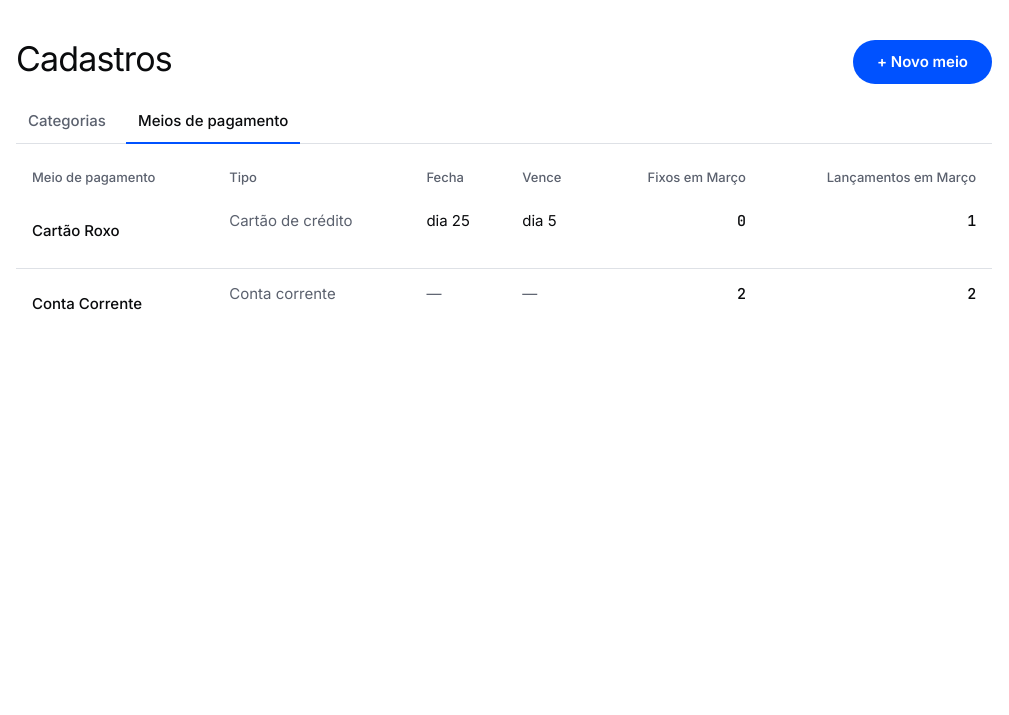
Test: abrir um meio e o endereço (CADCOL-07, ACs 1 e 15; CADCOL-11, ACs 1 a 3; CADCOL-10, AC 2) › a linha abre o meio no painel, marca a linha e leva o foco ao título
Click the button "Cartão Roxo" at (76, 232), box [32,210,120,254]
(page scrolled)
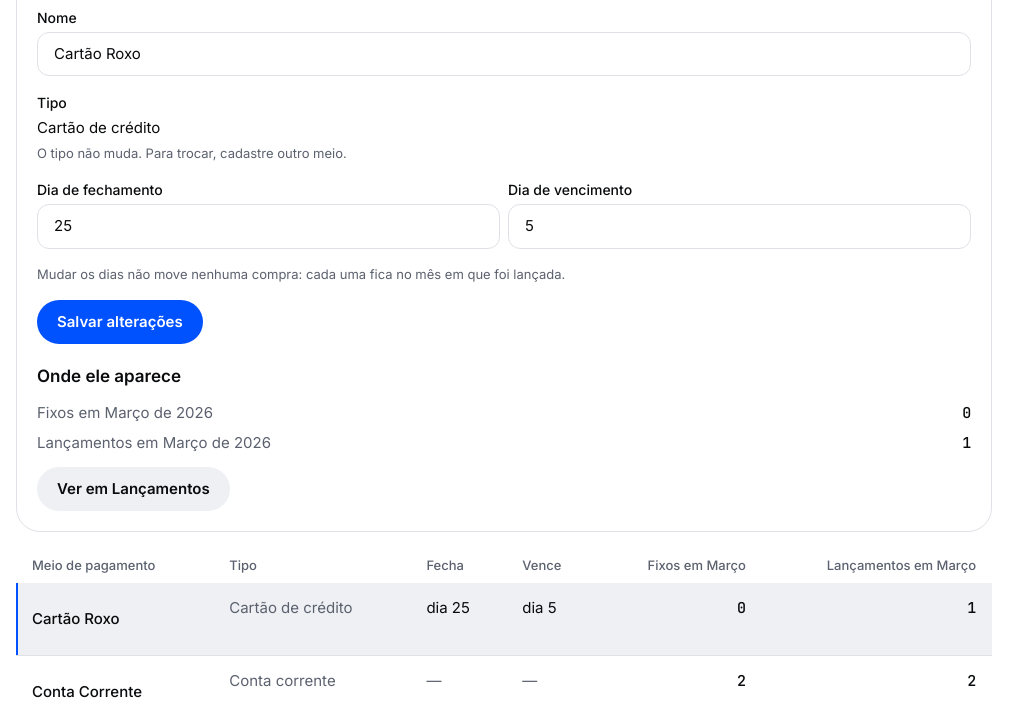
Expected: the form named "Editar Cartão Roxo" is shown, [37,7,971,344]
Expected: the button "Cartão Roxo" is expanded, [32,597,120,641]
